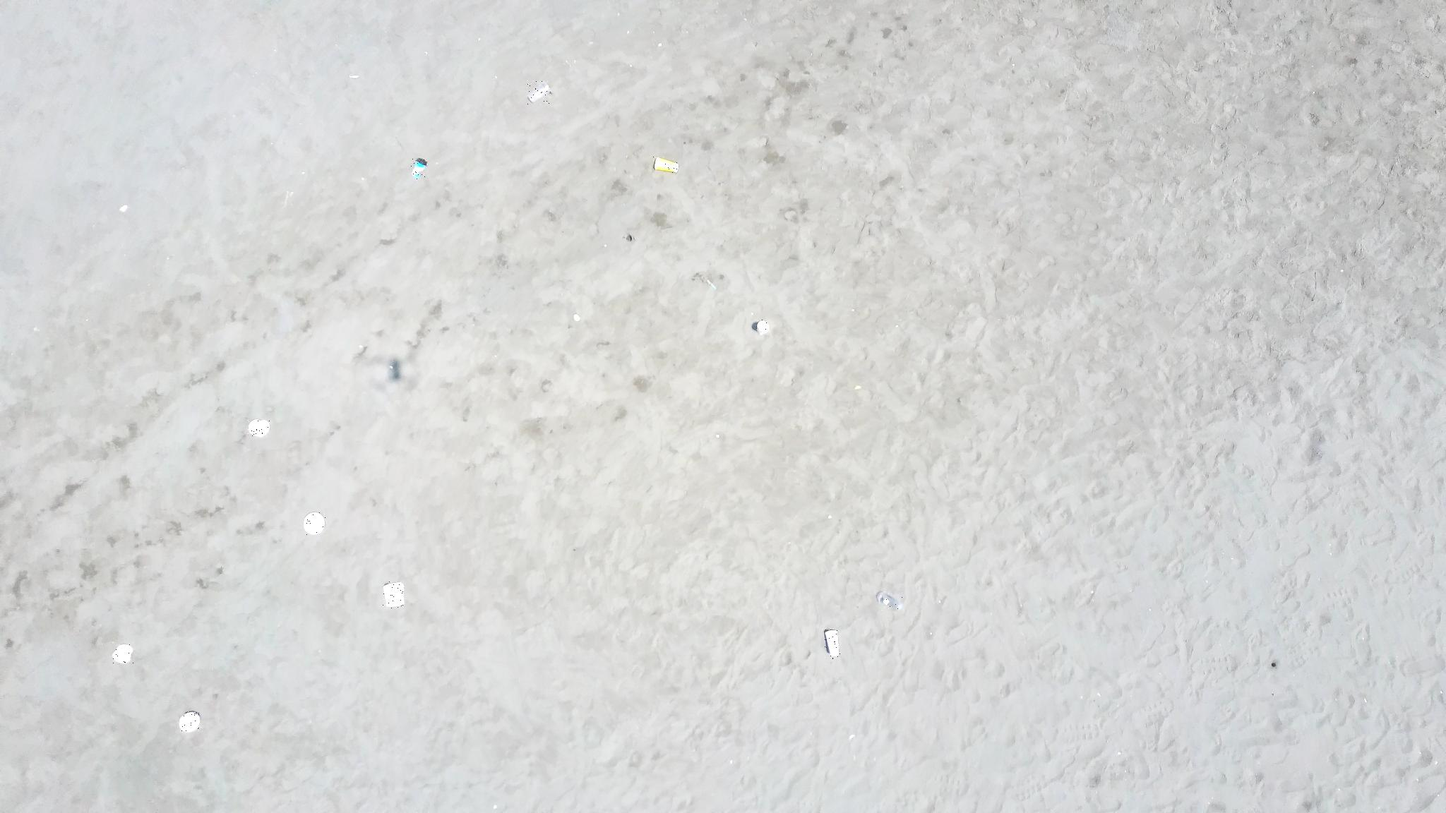Garbage: (383, 582, 403, 608), (303, 511, 325, 534), (877, 591, 902, 610), (529, 81, 551, 102), (179, 710, 199, 732), (824, 630, 839, 658), (652, 157, 679, 172), (112, 644, 133, 663), (248, 419, 269, 437), (412, 157, 426, 179), (751, 321, 770, 335), (388, 358, 399, 380), (119, 205, 128, 212)
